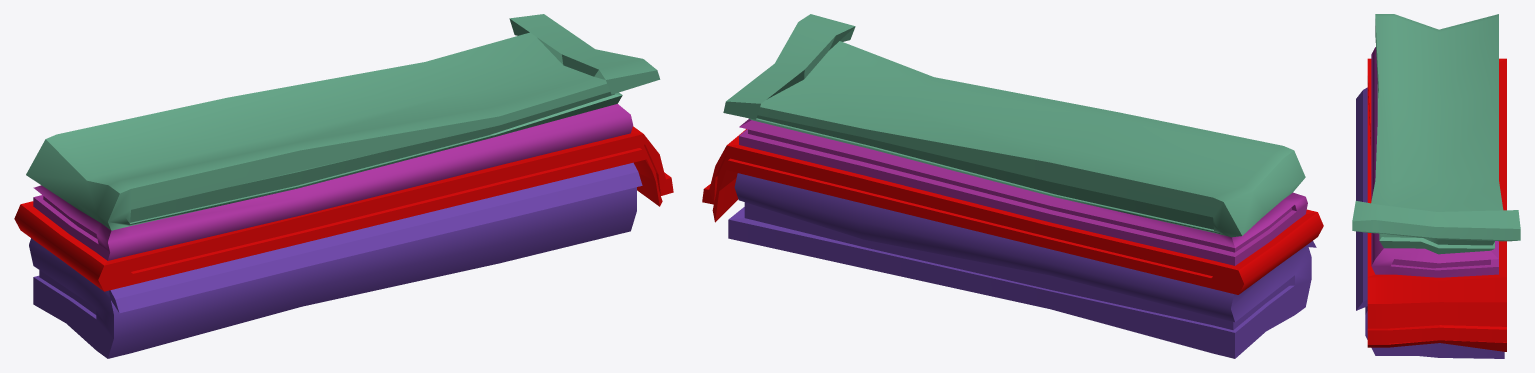
File: cloth_02.fbx
The picture shows the model from 3 angles, left to right: view 1: azimuth 30°, elevation 25°; view 2: azimuth 150°, elevation 25°; view 3: azimuth 270°, elevation 25°; orthographic projection. The views are drawn at different scales.
Parts seen in each view (by area): view 1: cloth_02; view 2: cloth_02; view 3: cloth_02.
Part boxes in pixels (x1=…): cloth_02: x1=14, y1=14, x2=673, y2=358; cloth_02: x1=702, y1=14, x2=1323, y2=358; cloth_02: x1=1352, y1=14, x2=1520, y2=358.
Bounding box in the file's own units: 61.39 × 17.54 × 18.73.
